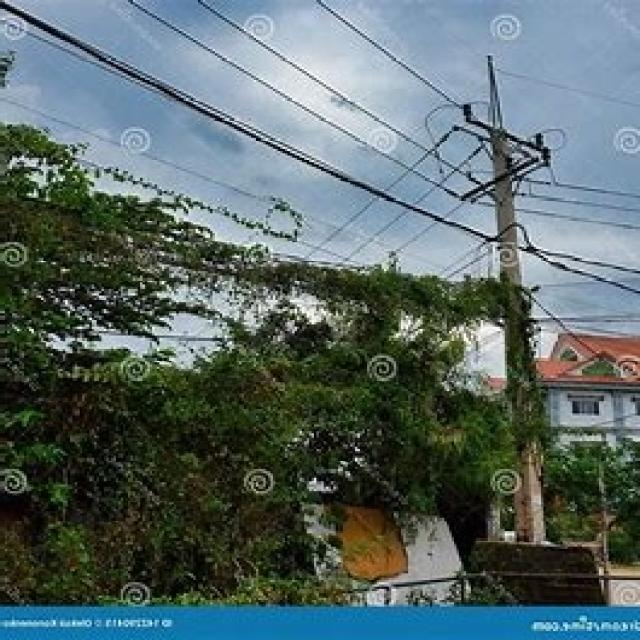critical vegetation: (8, 184, 515, 388)
